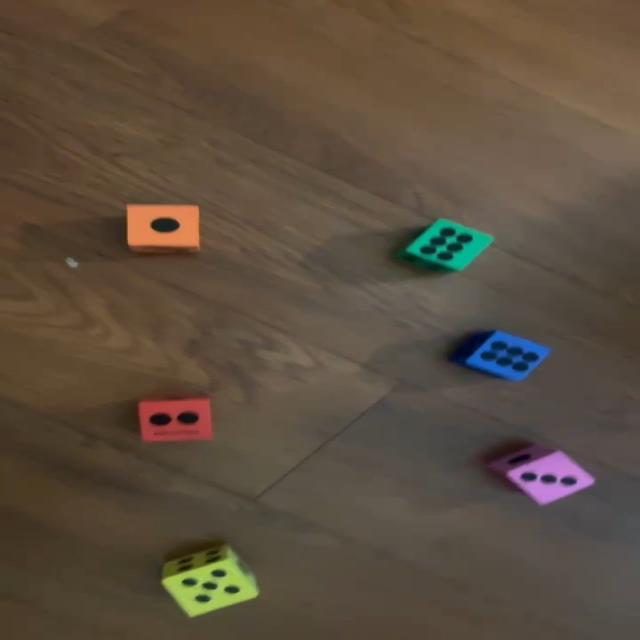blue_block: (449, 329, 552, 383)
red_block: (139, 396, 214, 442)
